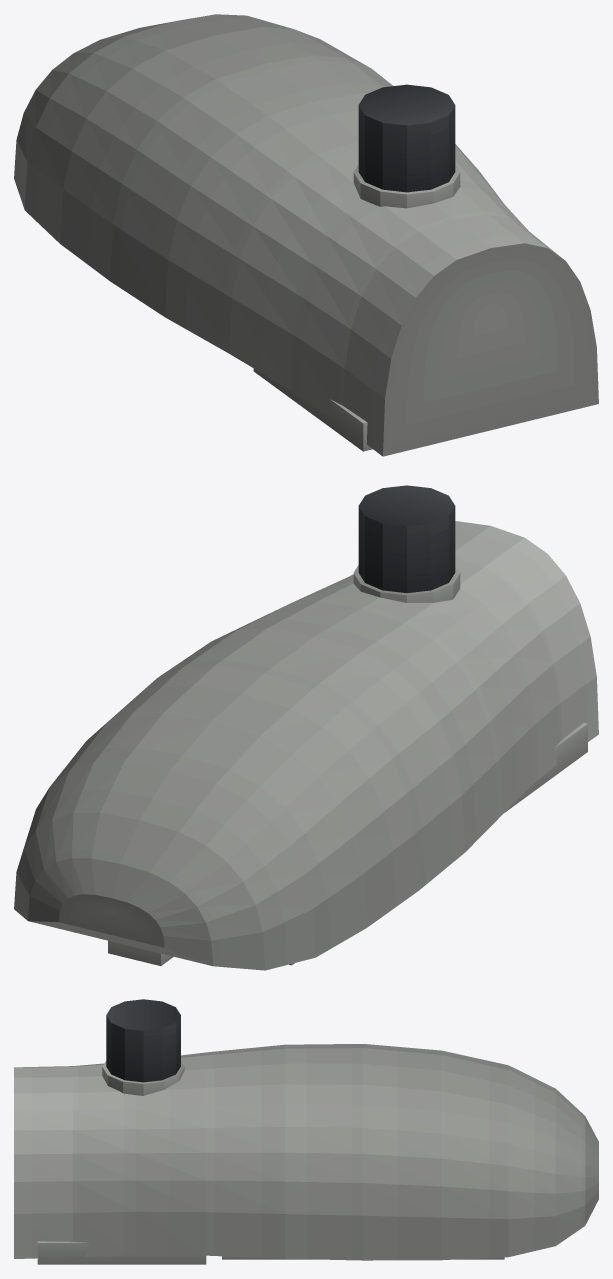
File: streetlight_gem400acu.obj
The picture shows the model from 3 angles, top to bottom: view 1: azimuth 30°, elevation 25°; view 2: azimuth 150°, elevation 25°; view 3: azimuth 270°, elevation 25°; orthographic projection. The views are drawn at different scales.
Visible parts, largest first — view 1: fixture; view 2: fixture; view 3: fixture.
Boxes of the visible parts, bbox=[...] form: fixture: bbox=[14, 14, 598, 456]; fixture: bbox=[14, 485, 598, 970]; fixture: bbox=[14, 999, 598, 1264].
Bounding box in the file's own units: 0.4375 × 0.3642 × 0.9312.
